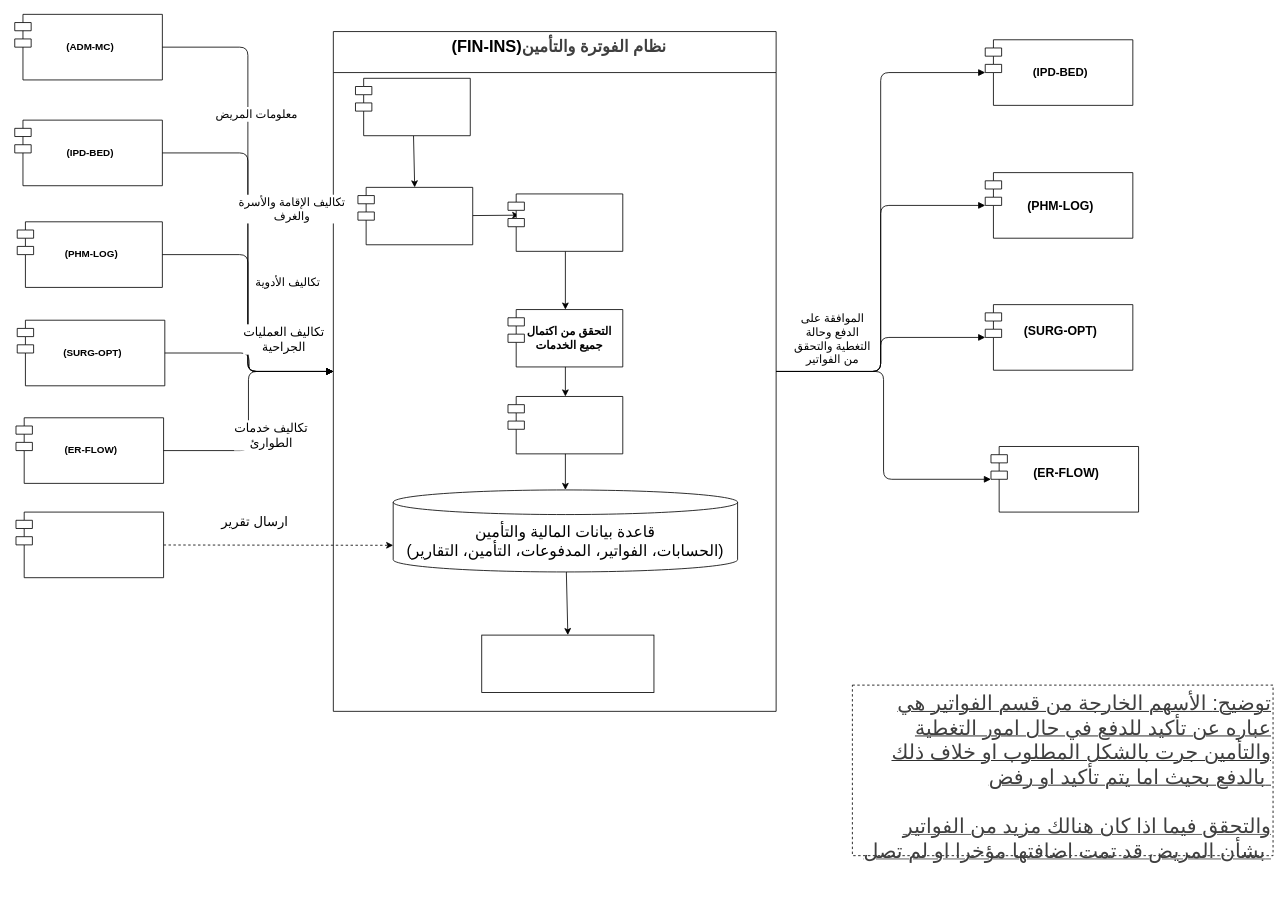
The diagram is 1287 pixels wide and 913 high, and some of its shapes have lost their labels. The centre of each missing label's shape, as x and y in pixels:
"(INV-SUP)" belongs at (x=89, y=544).
"إصدار الفاتورة النهائية" belongs at (x=567, y=663).
"التحقق من تغطية التأمين والنسبة في حاول وجوده" belongs at (x=415, y=216).
"التقارير المالية" belongs at (x=565, y=425).
"تجميع الفواتير والتكاليف" belongs at (x=565, y=222).
"واجهة استقبال الخدمات والتكاليف" belongs at (x=412, y=106).
